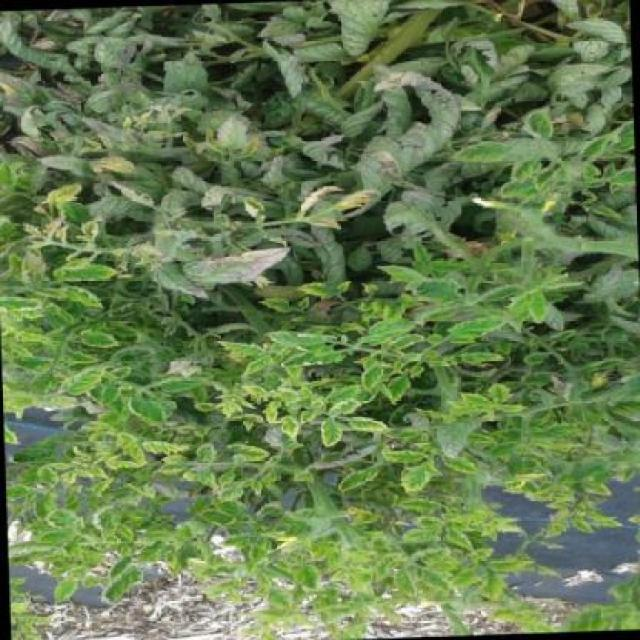Healthy Leaf: (432, 312, 512, 348), (392, 270, 466, 304), (55, 360, 118, 398), (91, 502, 142, 547), (45, 255, 122, 283), (370, 257, 438, 288), (349, 317, 420, 345), (89, 570, 149, 601), (132, 387, 176, 427), (434, 442, 480, 480), (70, 325, 132, 350), (522, 277, 553, 326), (400, 458, 442, 492), (262, 328, 332, 348), (412, 564, 453, 598), (402, 514, 453, 541), (278, 345, 333, 370), (60, 283, 109, 311), (210, 336, 264, 359), (239, 272, 299, 292), (157, 371, 214, 392), (138, 435, 194, 456), (236, 353, 276, 381), (437, 529, 478, 556), (377, 444, 425, 467), (242, 574, 270, 612), (34, 457, 64, 491), (313, 417, 345, 448), (210, 528, 262, 547), (47, 508, 87, 532), (295, 281, 343, 301), (290, 562, 324, 590), (322, 394, 361, 418), (345, 412, 390, 432), (455, 389, 499, 409), (232, 440, 270, 463), (48, 577, 84, 601), (356, 362, 389, 388), (387, 376, 415, 406), (274, 414, 306, 440), (399, 496, 450, 512), (213, 482, 244, 504)
